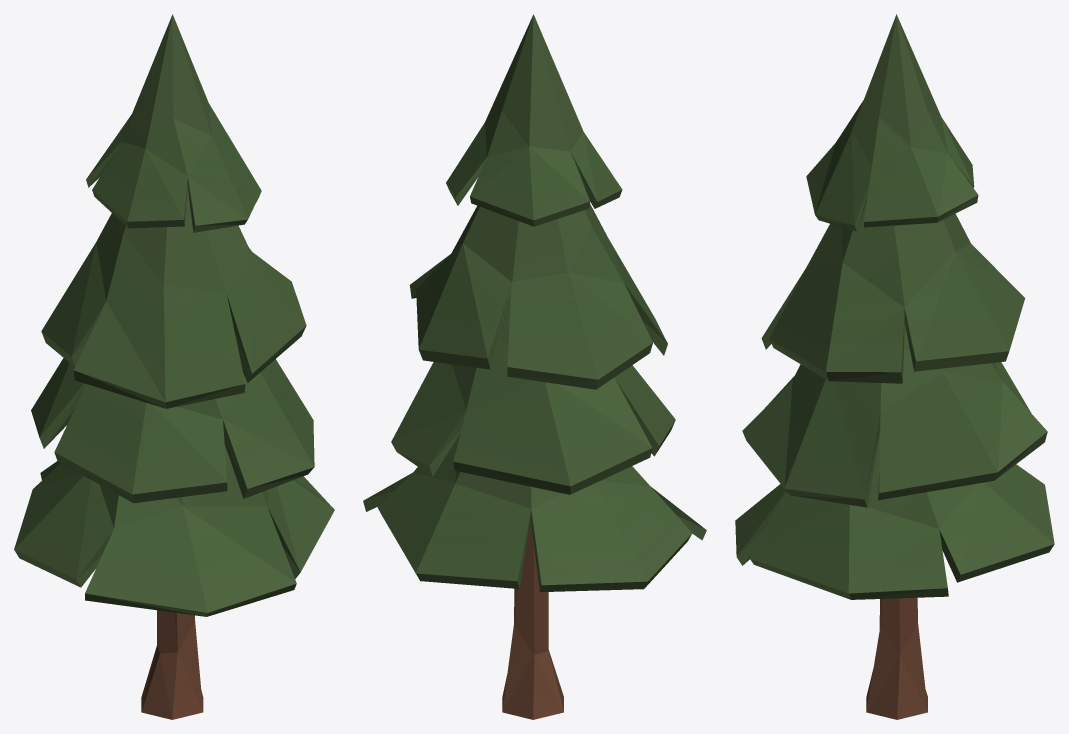
File: animation_tree.glb
The picture shows the model from 3 angles, left to right: view 1: azimuth 30°, elevation 25°; view 2: azimuth 150°, elevation 25°; view 3: azimuth 270°, elevation 25°; orthographic projection.
Visible parts, largest first — view 1: fir_001; view 2: fir_001; view 3: fir_001.
Boxes of the visible parts, x1,y1,x2,y2 form: fir_001: [14, 14, 334, 719]; fir_001: [363, 14, 706, 719]; fir_001: [735, 14, 1054, 719].
Bounding box in the file's own units: 2.63 × 6.18 × 2.59.
Materials: 1 (1 with a texture image).
